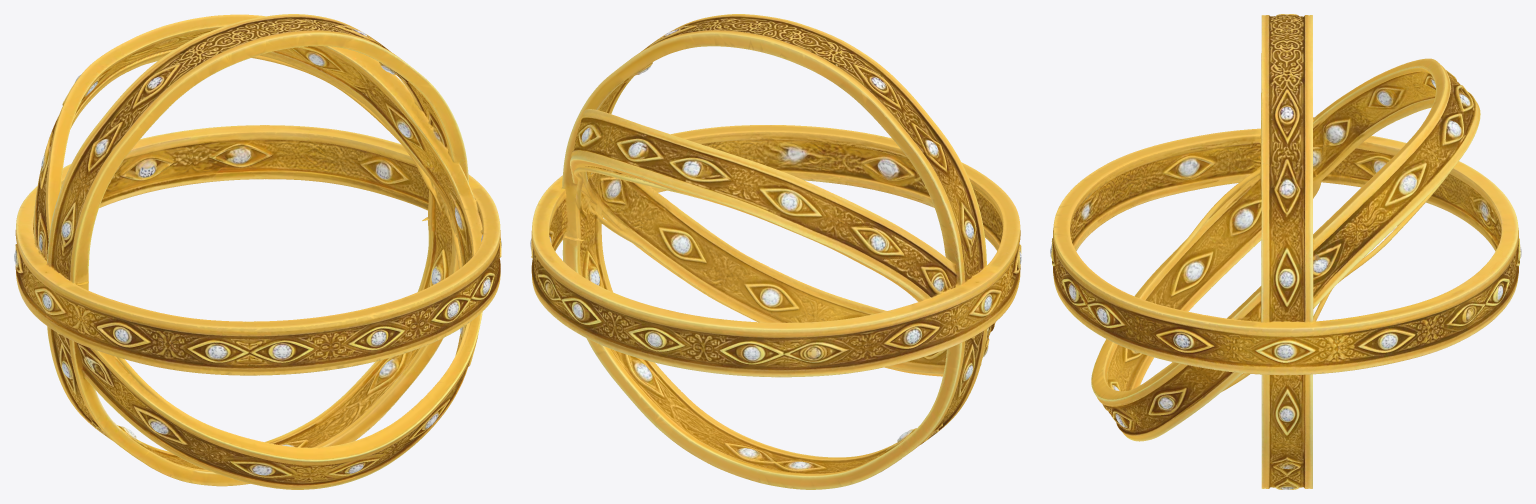
Rendered from carklar_m.glb.
3 views of the same model, side by side, from view 1: azimuth 30°, elevation 25°; view 2: azimuth 150°, elevation 25°; view 3: azimuth 270°, elevation 25° (orthographic). The views are drawn at different scales.
Visible parts, largest first — view 1: mesh_node; view 2: mesh_node; view 3: mesh_node.
Part boxes in pixels (bbox=[...]): mesh_node: bbox=[14, 14, 501, 489]; mesh_node: bbox=[530, 14, 1021, 489]; mesh_node: bbox=[1050, 14, 1521, 489].
Size of the model in its own units: 1.9 by 1.89 by 1.88.
1 material, 1 textured.
